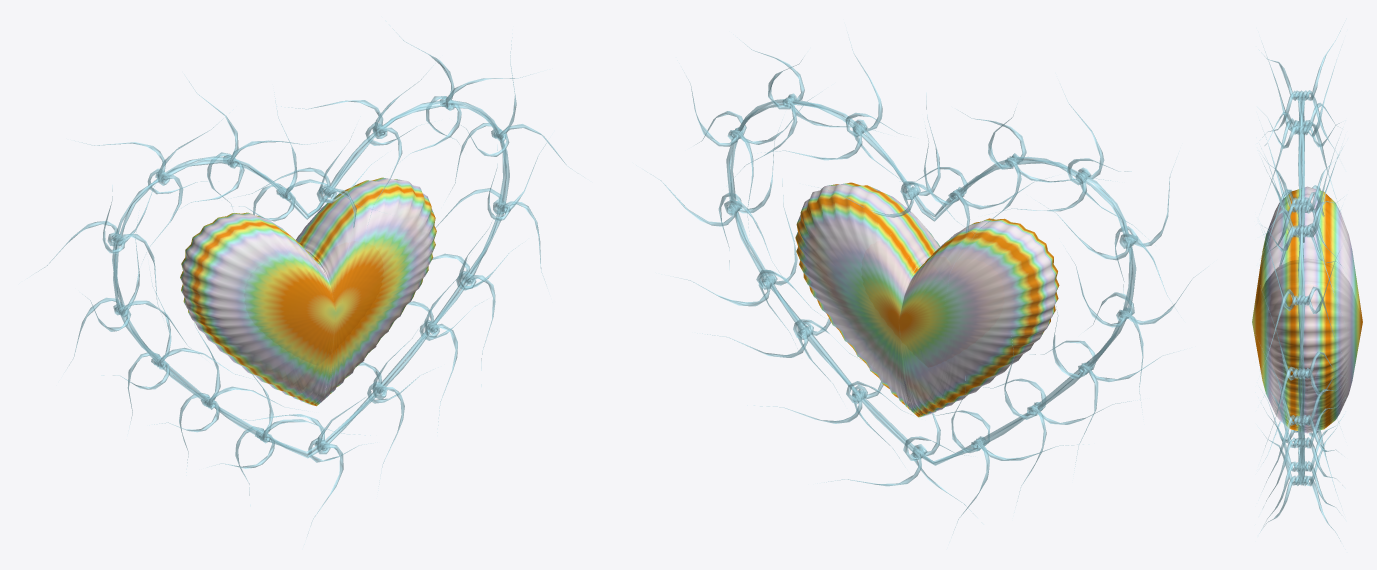
Rendered from tim.glb.
3 views of the same model, side by side, from view 1: azimuth 30°, elevation 25°; view 2: azimuth 150°, elevation 25°; view 3: azimuth 270°, elevation 25° (orthographic). The views are drawn at different scales.
Visible parts, largest first — view 1: Plane.014, Plane.012; view 2: Plane.014, Plane.012; view 3: Plane.014, Plane.012.
Part boxes in pixels (<box>): Plane.014: <box>180,177,436,406</box>; Plane.012: <box>36,21,572,544</box>; Plane.014: <box>795,182,1059,417</box>; Plane.012: <box>646,42,1203,542</box>; Plane.014: <box>1252,186,1362,433</box>; Plane.012: <box>1258,18,1346,540</box>.
Bounding box in the file's own units: 10.65 × 8.93 × 1.88.
Materials: 3 (1 with a texture image).
